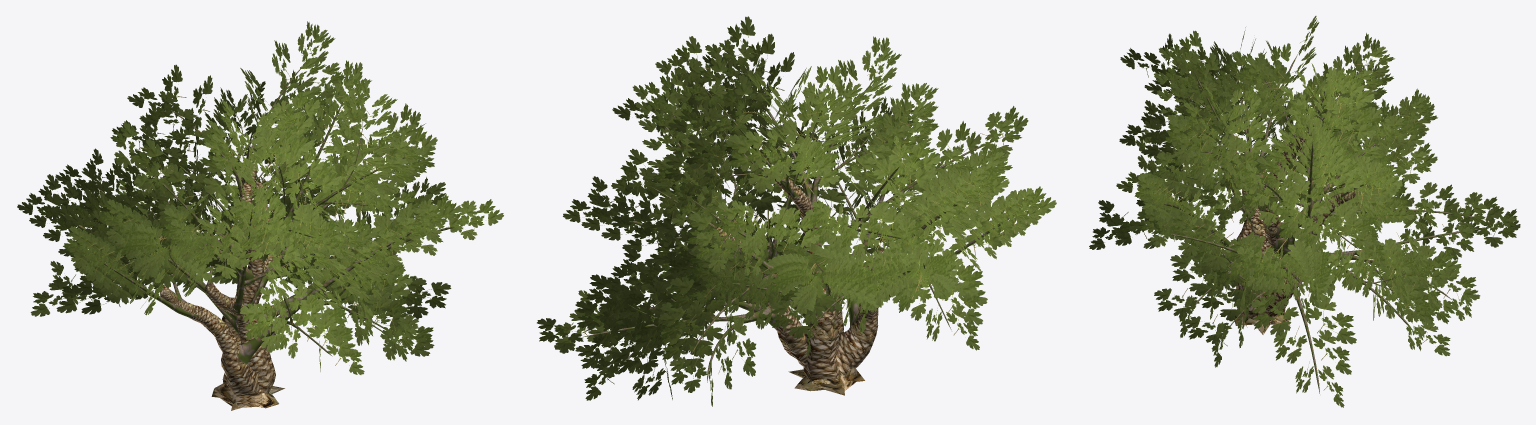
Rendered from Tree05.fbx.
3 renders of one model, left to right at view 1: azimuth 30°, elevation 25°; view 2: azimuth 150°, elevation 25°; view 3: azimuth 270°, elevation 25°, orthographic. The views are drawn at different scales.
Visible parts, largest first — view 1: tree; view 2: tree; view 3: tree.
Boxes of the visible parts, x1,y1,x2,y2 form: tree: [17, 21, 503, 410]; tree: [537, 16, 1056, 406]; tree: [1089, 16, 1520, 407].
Size of the model in its own units: 43640 by 32102 by 41059.
